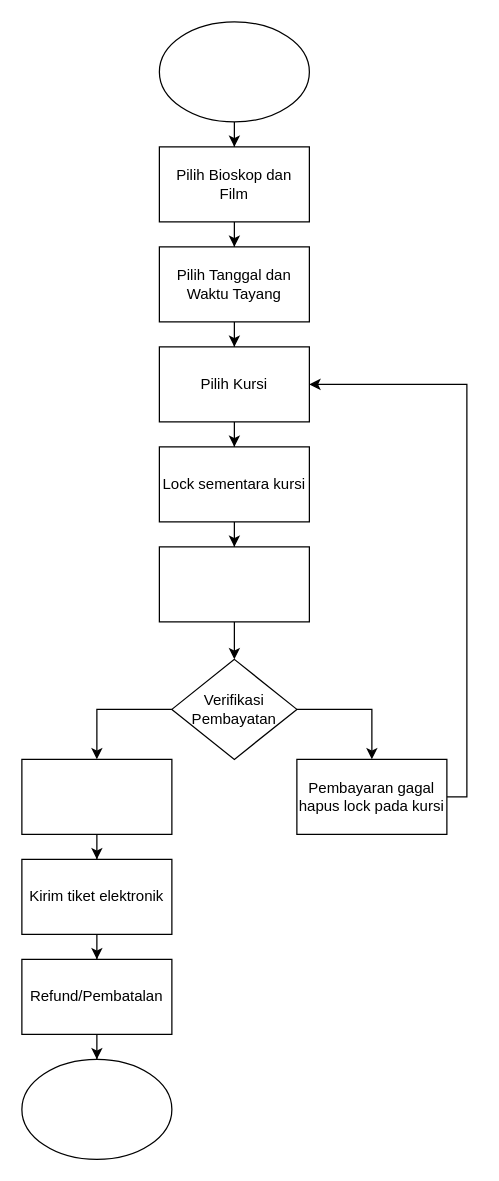
Image size: 499x1181. Some labels were removed from this diagram. The centre of each missing label's shape, as x and y in pixels:
Mulai: [233,71]
Pembayaran: [233,584]
Pembayaran berhasil kursi tersimpan sebagai terjual: [96,796]
Selesai: [96,1108]
